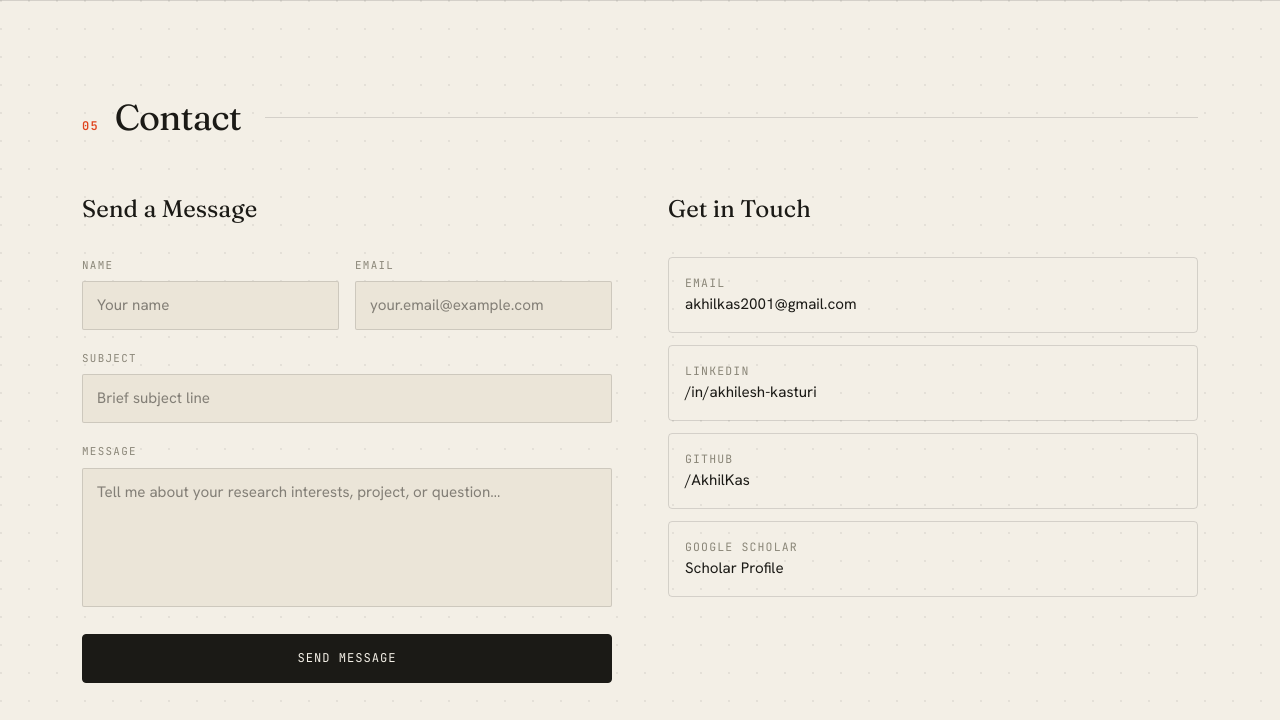
Contact form submission › sends the form values to EmailJS and shows a success message
Step 1. Type "Ada Lovelace" into the field with placeholder "Your name" → (210, 306), box left=82, top=281, right=339, bottom=330
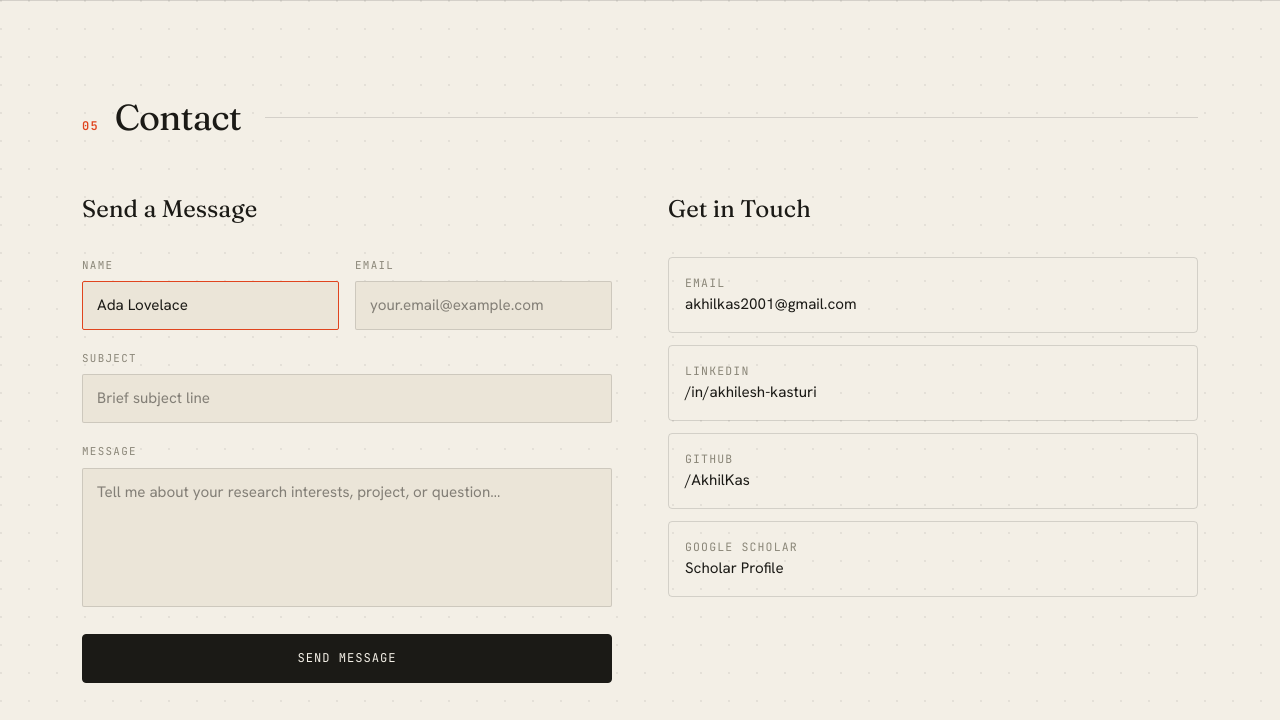
Step 2. Type "ada@example.com" into the field with placeholder "your.email@example.com" → (484, 306), box left=355, top=281, right=612, bottom=330
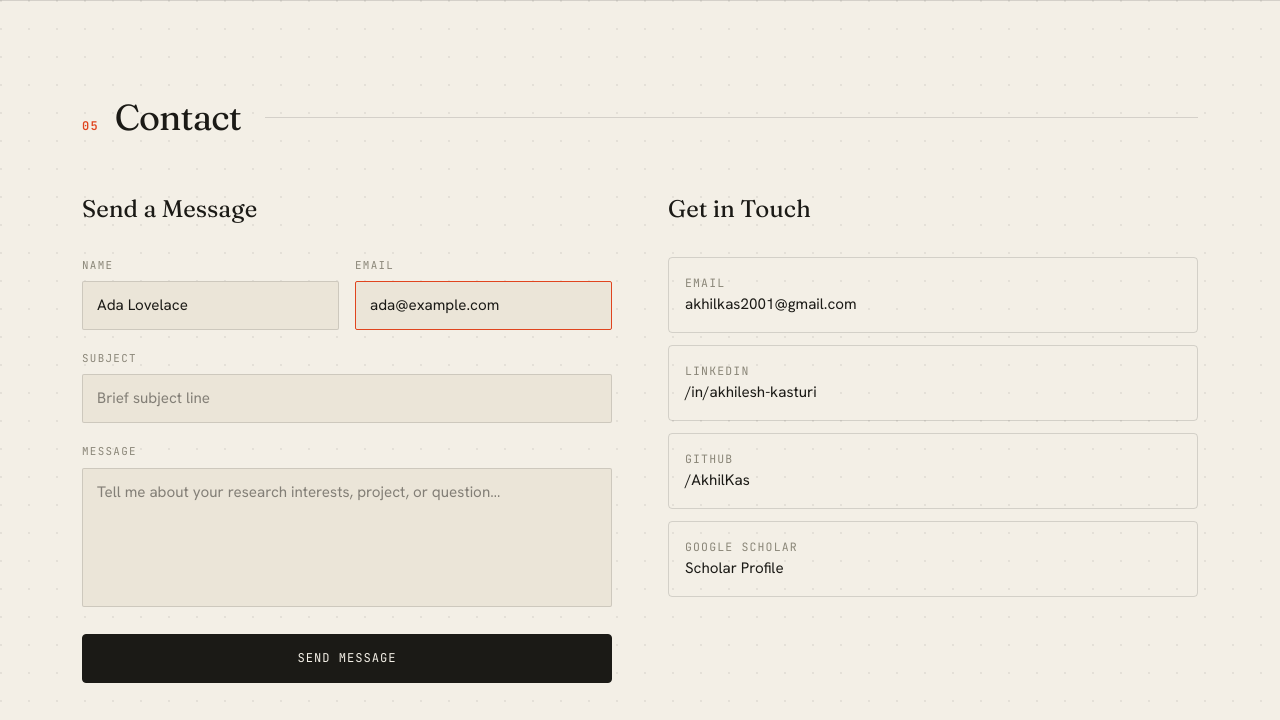
Step 3. Type "Hello" into the field with placeholder "Brief subject line" → (347, 399), box left=82, top=374, right=612, bottom=423
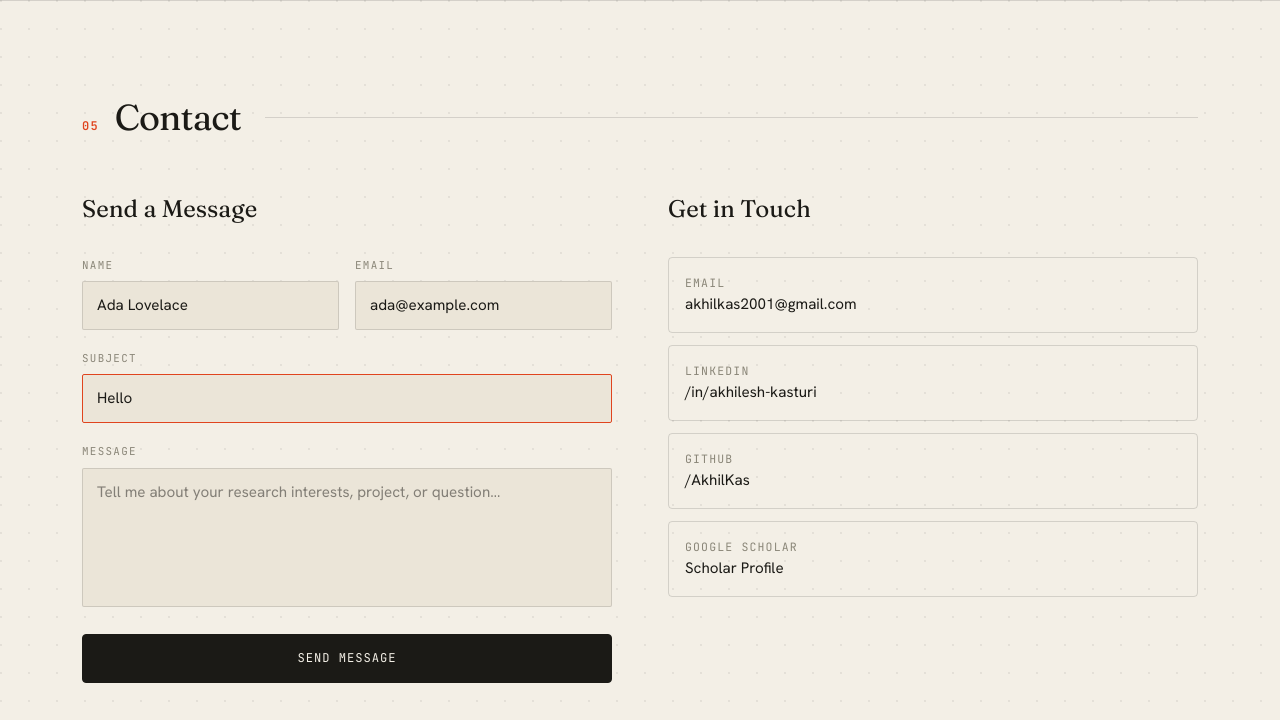
Step 4. Type "Nice portfolio" into the text box named "message" → (347, 537), box left=82, top=468, right=612, bottom=607
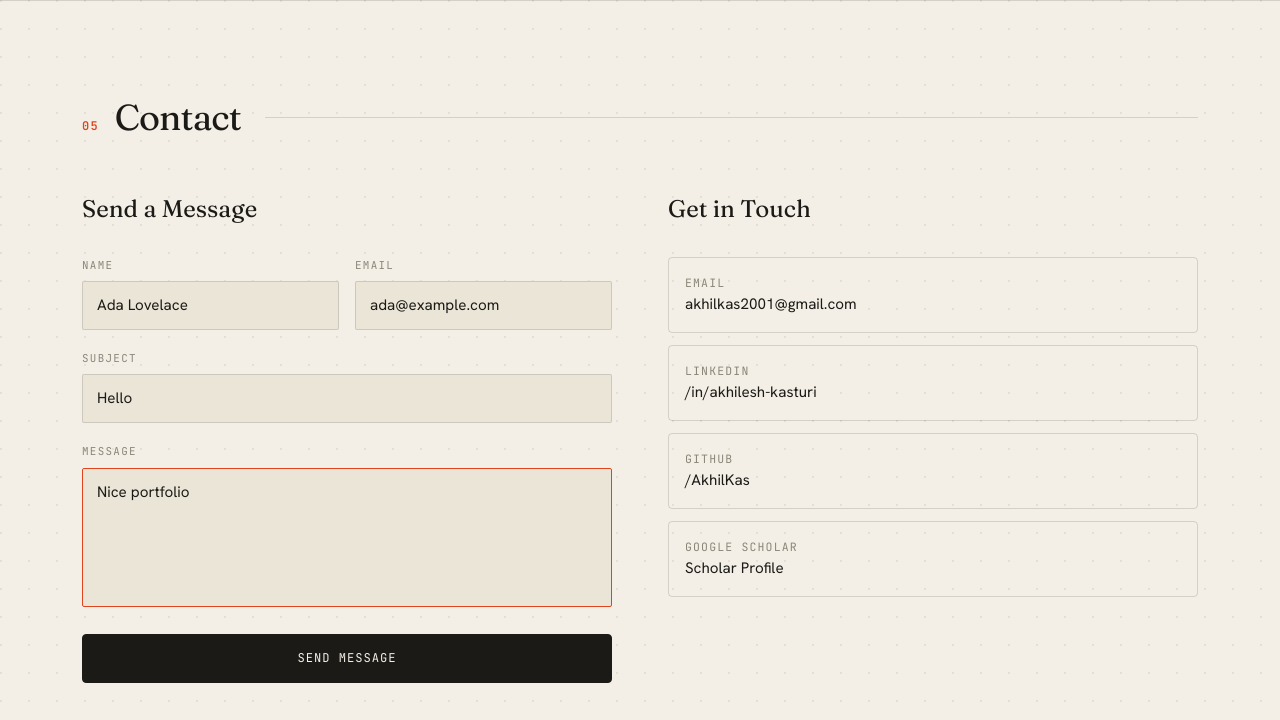
Step 5. Click the button "Send Message" → (347, 658), box left=82, top=634, right=612, bottom=683
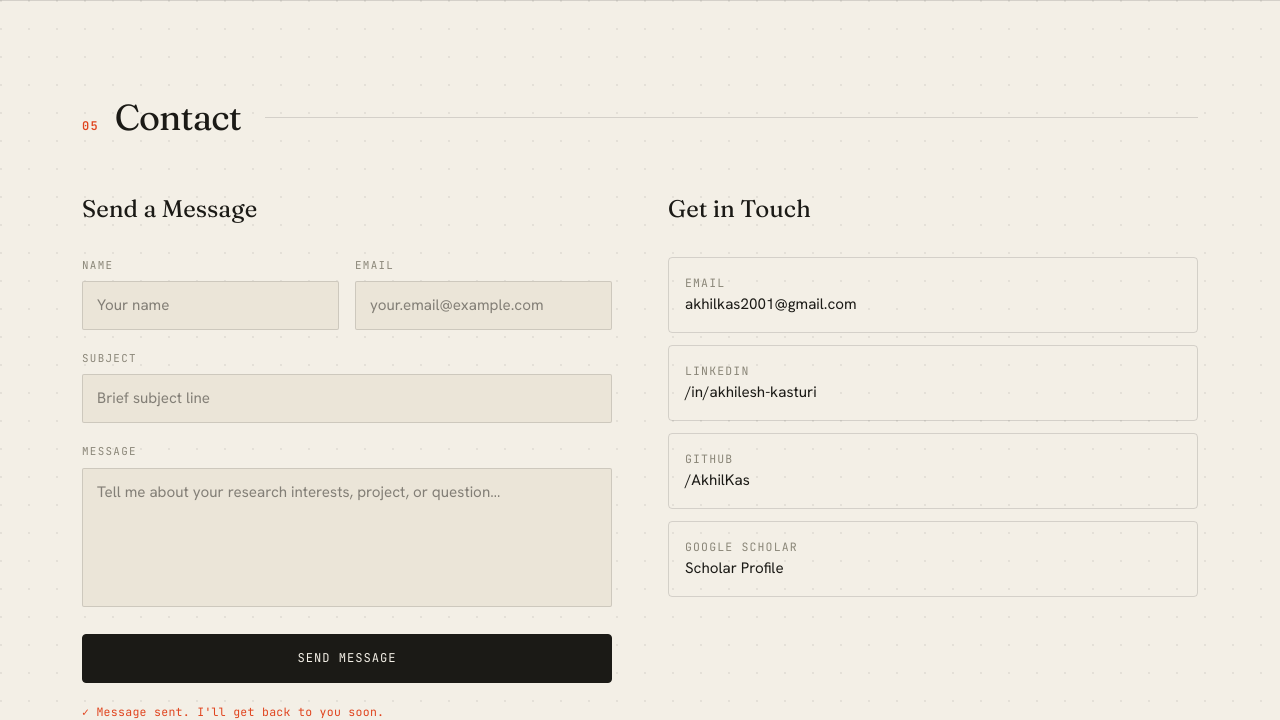
Result: the text "✓ Message sent. I'll get back to you soon." is shown at left=82, top=704, right=384, bottom=719
